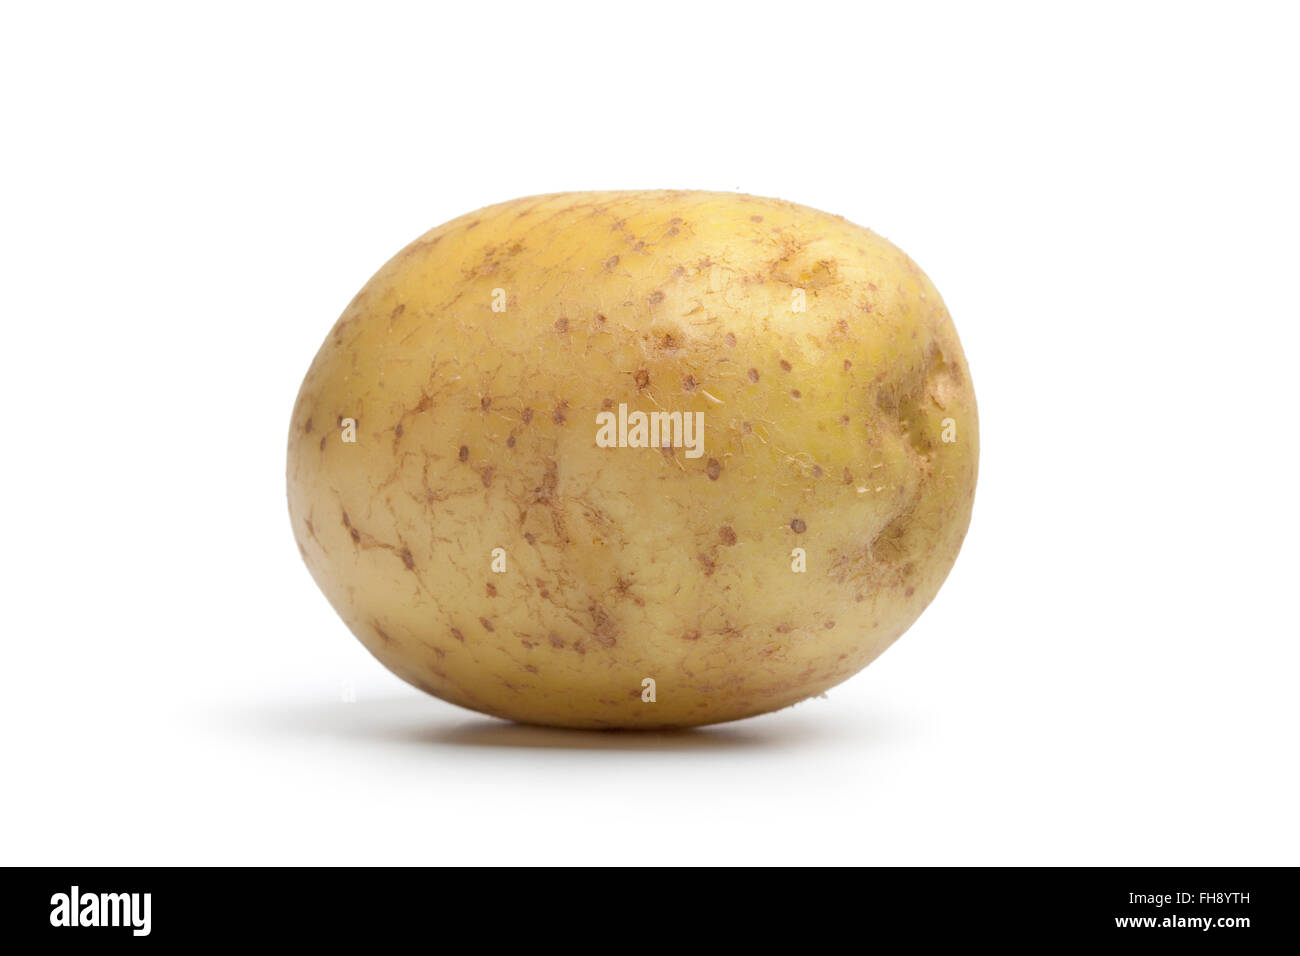potato: (245, 181, 985, 775)
